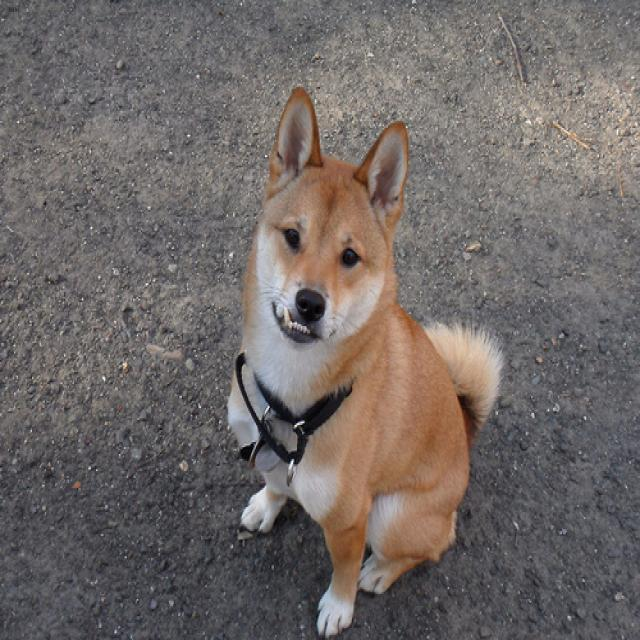dog: (256, 85, 408, 345)
